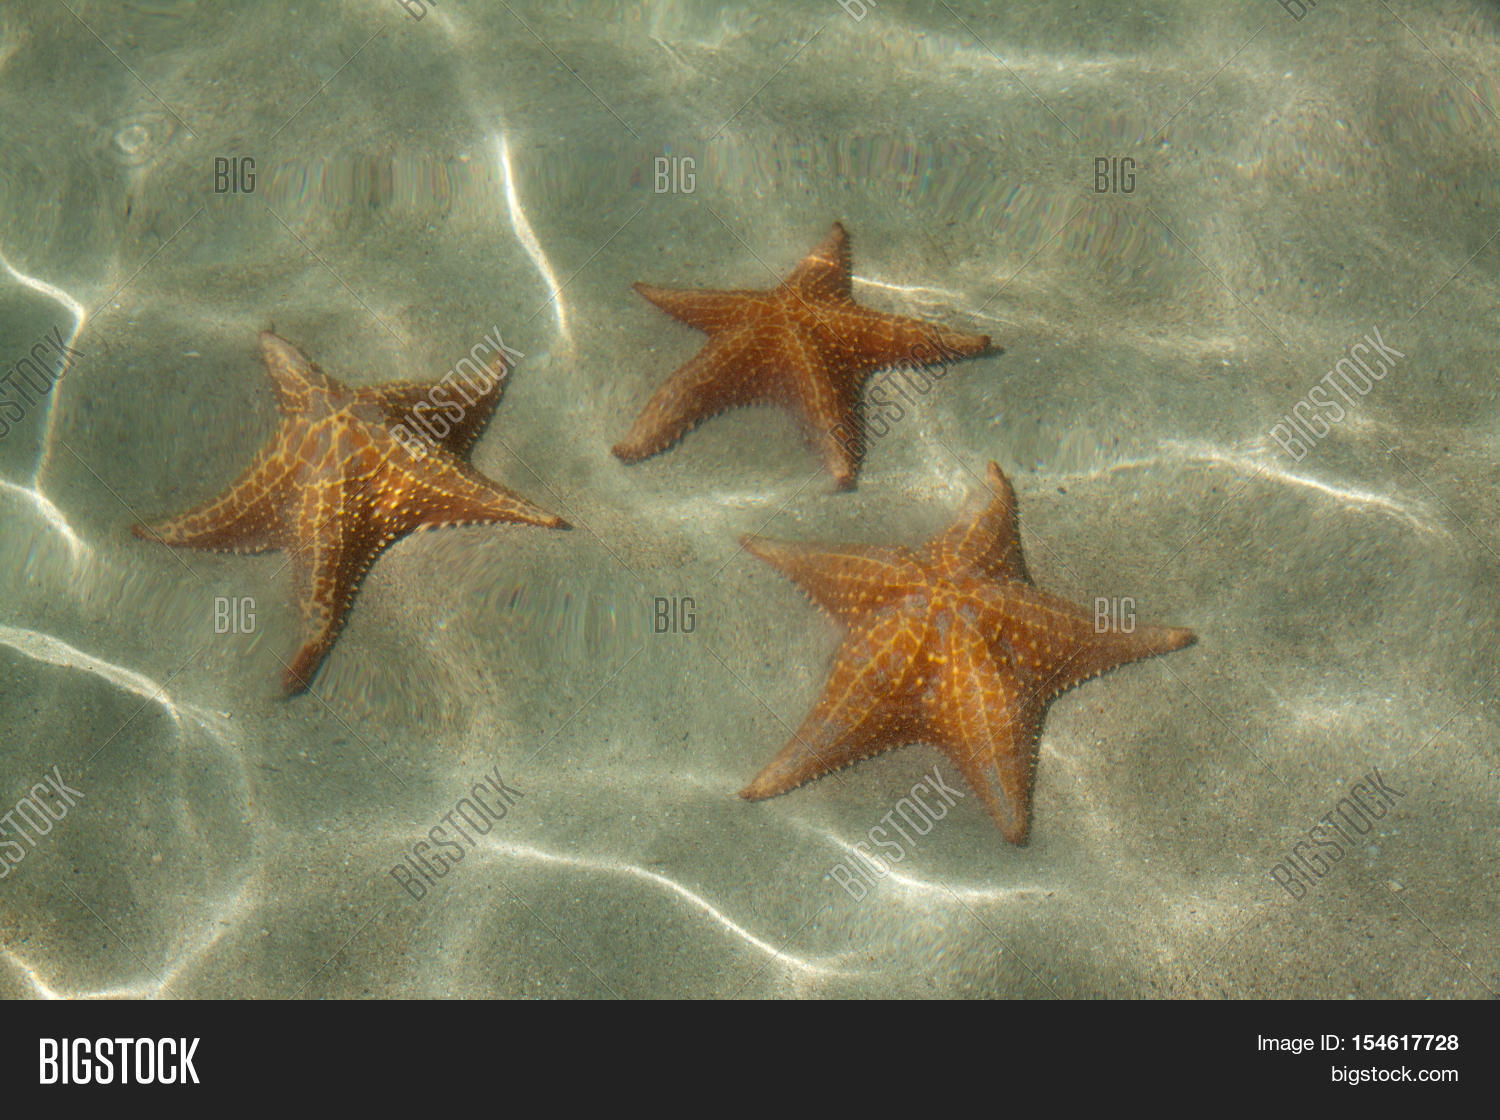starfish: (729, 493, 1207, 824), (129, 312, 591, 649), (636, 222, 945, 505)
